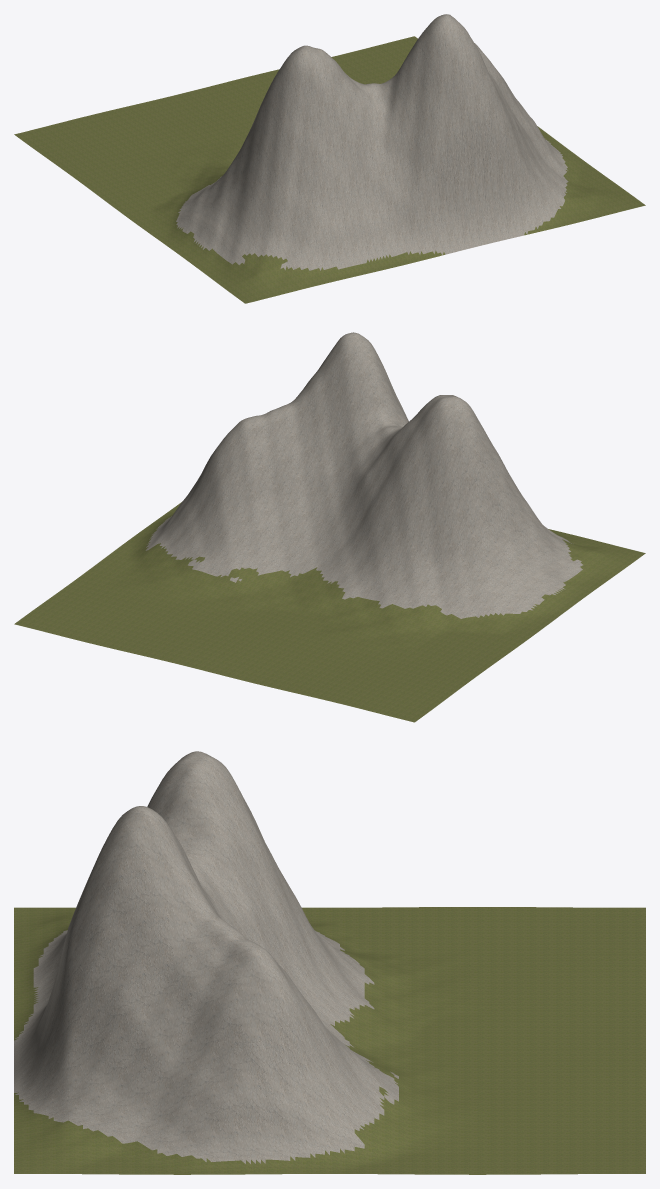
Rendered from terrain_rocky.obj.
3 views of the same model, one above another, from view 1: azimuth 30°, elevation 25°; view 2: azimuth 150°, elevation 25°; view 3: azimuth 270°, elevation 25° (orthographic). The views are drawn at different scales.
Visible parts, largest first — view 1: Mountain_Granite, Meadow_Ground; view 2: Mountain_Granite, Meadow_Ground; view 3: Mountain_Granite, Meadow_Ground.
Part boxes in pixels (box(x1,y1,x2,y2)): Mountain_Granite: box(176, 14, 568, 270); Meadow_Ground: box(14, 36, 645, 303); Mountain_Granite: box(145, 332, 582, 618); Meadow_Ground: box(14, 502, 645, 722); Mountain_Granite: box(14, 751, 398, 1163); Meadow_Ground: box(14, 907, 645, 1174).
Size of the model in its own units: 192 by 88.8 by 192.
